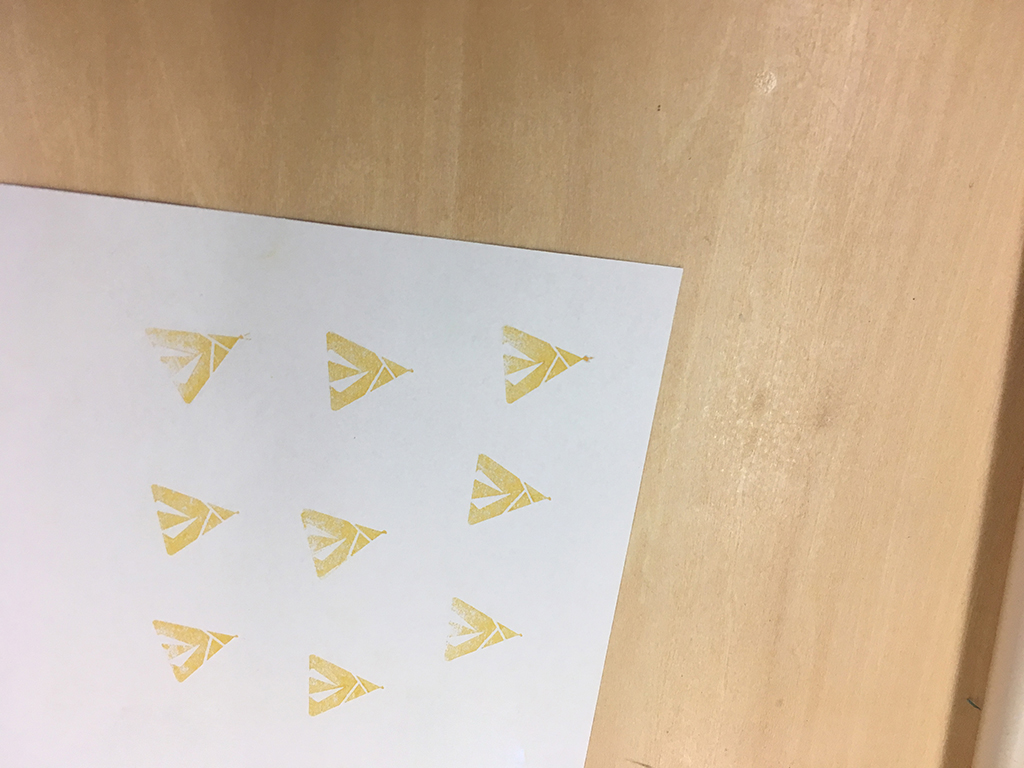tent: (132, 314, 259, 416), (493, 314, 600, 415), (316, 323, 420, 418), (146, 479, 250, 566), (290, 500, 394, 586), (461, 448, 558, 529), (145, 616, 247, 691), (439, 589, 530, 672), (300, 649, 394, 724)
